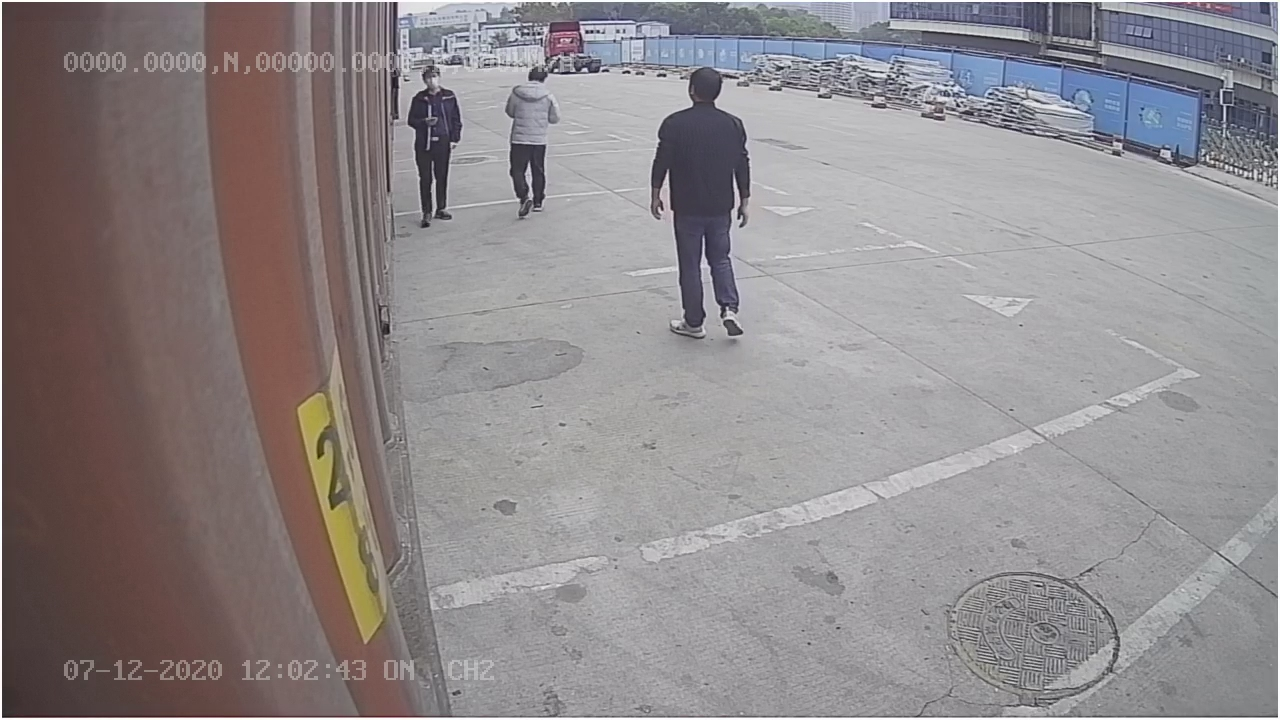person: (652, 61, 757, 338)
